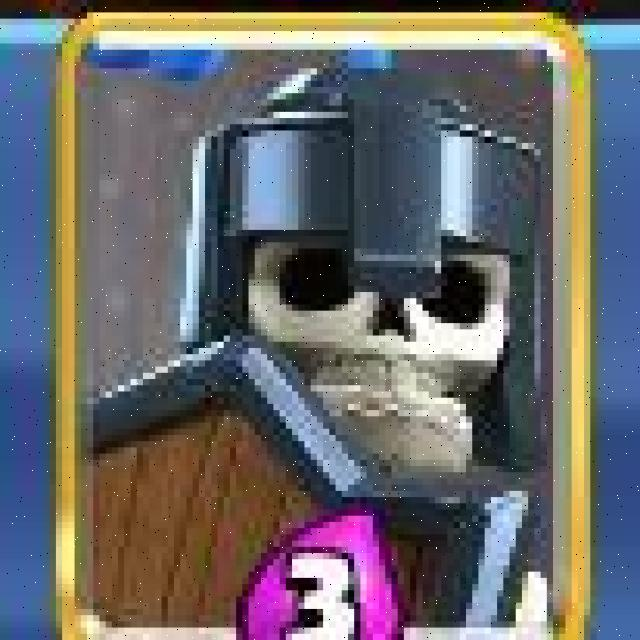Guards: (57, 13, 590, 640)
